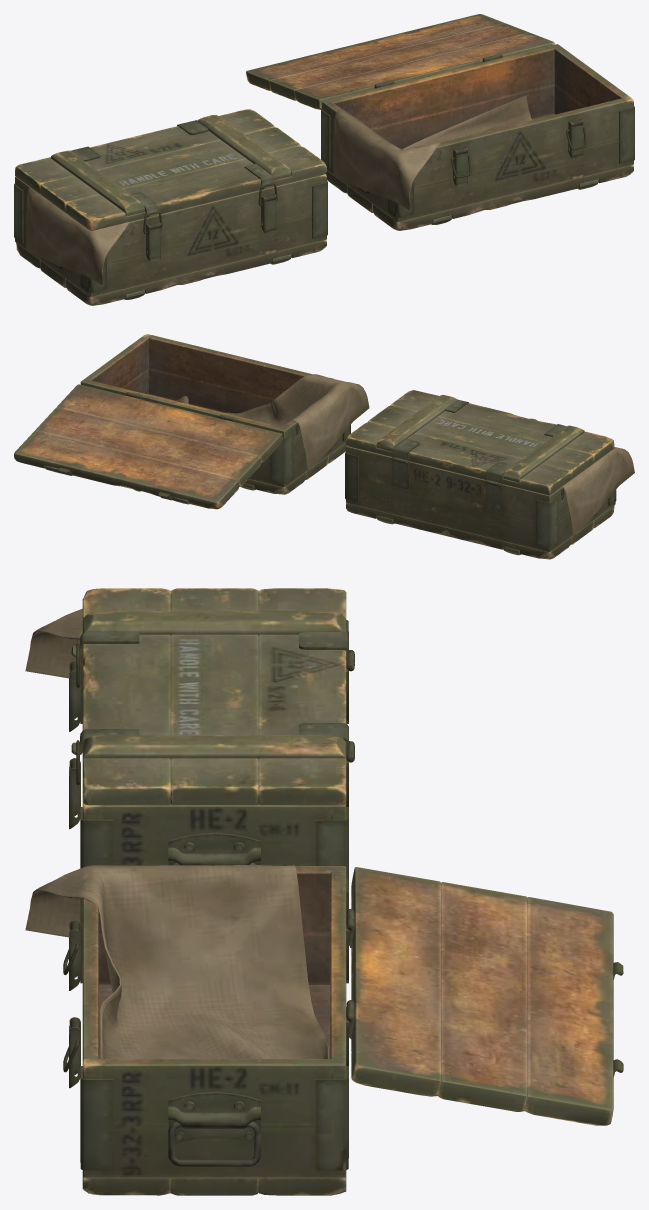
The model's file is old_military_crate.glb.
The picture shows the model from 3 angles, top to bottom: view 1: azimuth 30°, elevation 25°; view 2: azimuth 150°, elevation 25°; view 3: azimuth 270°, elevation 25°; orthographic projection. The views are drawn at different scales.
Visible parts, largest first — view 1: old_military_crate_b, old_military_crate_lid_a, old_military_crate_a, old_military_crate_lid_b, old_military_crate_cloth_b, old_military_crate_cloth_a, old_military_crate_latch_a, old_military_crate_latch_b; view 2: old_military_crate_lid_b, old_military_crate_lid_a, old_military_crate_a, old_military_crate_b, old_military_crate_cloth_b, old_military_crate_cloth_a; view 3: old_military_crate_lid_a, old_military_crate_lid_b, old_military_crate_b, old_military_crate_cloth_b, old_military_crate_a, old_military_crate_cloth_a, old_military_crate_latch_b, old_military_crate_latch_a.
Boxes of the visible parts, x1,y1,x2,y2 form: old_military_crate_b: [321, 44, 634, 230]; old_military_crate_lid_a: [15, 109, 326, 230]; old_military_crate_a: [14, 174, 327, 305]; old_military_crate_lid_b: [246, 14, 555, 109]; old_military_crate_cloth_b: [333, 95, 532, 209]; old_military_crate_cloth_a: [26, 187, 129, 284]; old_military_crate_latch_a: [146, 194, 276, 261]; old_military_crate_latch_b: [453, 119, 583, 186]; old_military_crate_lid_b: [14, 384, 282, 509]; old_military_crate_lid_a: [346, 390, 614, 495]; old_military_crate_a: [345, 446, 616, 559]; old_military_crate_b: [80, 334, 350, 494]; old_military_crate_cloth_b: [174, 374, 369, 470]; old_military_crate_cloth_a: [562, 447, 634, 535]; old_military_crate_lid_a: [71, 588, 354, 805]; old_military_crate_lid_b: [346, 867, 623, 1125]; old_military_crate_b: [80, 866, 354, 1195]; old_military_crate_cloth_b: [25, 865, 328, 1058]; old_military_crate_a: [80, 620, 354, 889]; old_military_crate_cloth_a: [25, 608, 82, 678]; old_military_crate_latch_b: [69, 920, 80, 1088]; old_military_crate_latch_a: [69, 661, 80, 829].
Bounding box in the file's own units: 1.82 × 0.3009 × 0.9757.
Materials: 1 (1 with a texture image).
